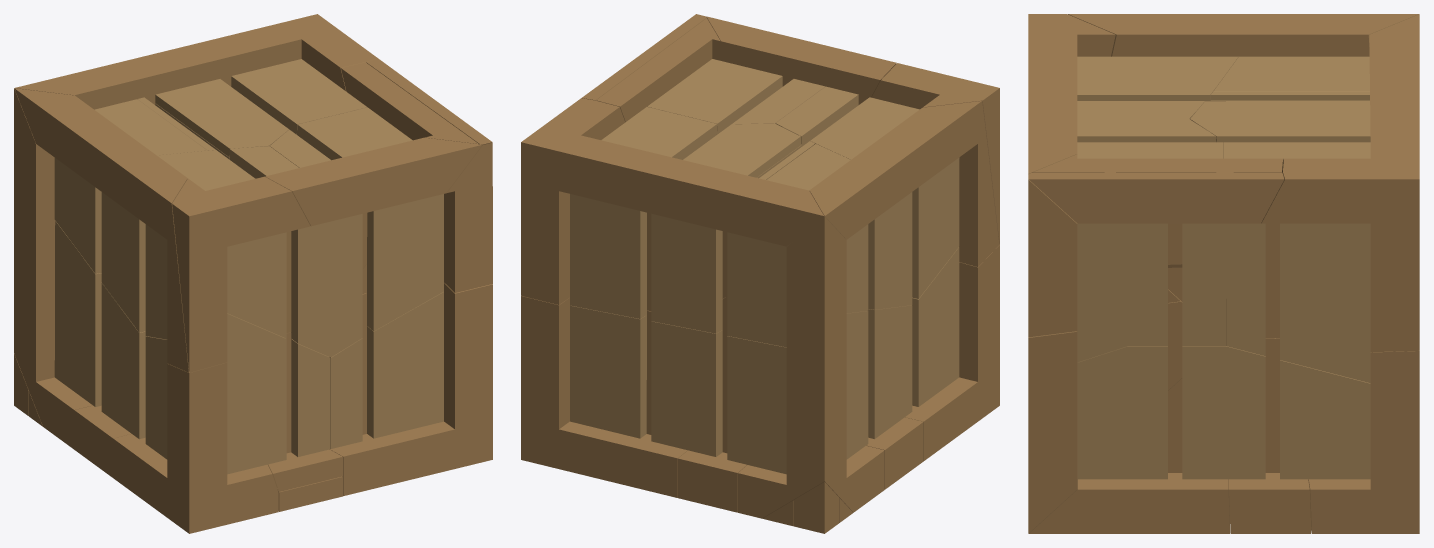
The model's file is BrokenCrate.fbx.
3 views of the same model, side by side, from view 1: azimuth 30°, elevation 25°; view 2: azimuth 150°, elevation 25°; view 3: azimuth 270°, elevation 25° (orthographic). The views are drawn at different scales.
Visible parts, largest first — view 1: Cube.005_cell.005_cell.001, Cube.005_cell.004_cell.001, Cube.005_cell.007_cell, Cube.005_cell.006_cell.002, Cube.005_cell.007_cell.002, Cube.005_cell.001_cell, Cube.005_cell.007_cell.001, Cube.007_cell.010, Cube.007_cell.002, Cube.007_cell.006, Cube.007_cell.004, Cube.006_cell.004 (+22 smaller); view 2: Cube.005_cell.006_cell.002, Cube.005_cell.001_cell, Cube.005_cell.007_cell.002, Cube.005_cell.003_cell.001, Cube.007_cell.008, Cube.005_cell.005_cell.001, Cube.007_cell.009, Cube.007_cell.015, Cube.007_cell.016, Cube.007_cell, Cube.005_cell.007_cell.001, Cube.007_cell.007 (+19 smaller); view 3: Cube.005_cell.006_cell.002, Cube.006_cell.001, Cube.005_cell.003_cell.001, Cube.005_cell.007_cell.002, Cube.006_cell.011, Cube.005_cell.006_cell.001, Cube.006_cell.012, Cube.005_cell_cell.002, Cube.005_cell.004_cell.001, Cube.006_cell.006, Cube.008_cell.002, Cube.005_cell.004_cell (+15 smaller).
Boxes of the visible parts, left/top/right/bottom form: Cube.005_cell.005_cell.001: left=113, top=362, right=278, bottom=533; Cube.005_cell.004_cell.001: left=330, top=283, right=492, bottom=495; Cube.005_cell.007_cell: left=172, top=176, right=310, bottom=372; Cube.005_cell.006_cell.002: left=15, top=14, right=377, bottom=109; Cube.005_cell.007_cell.002: left=14, top=88, right=189, bottom=372; Cube.005_cell.001_cell: left=14, top=88, right=92, bottom=449; Cube.005_cell.007_cell.001: left=265, top=137, right=482, bottom=268; Cube.007_cell.010: left=291, top=214, right=362, bottom=357; Cube.007_cell.002: left=367, top=292, right=443, bottom=438; Cube.007_cell.006: left=227, top=313, right=286, bottom=474; Cube.007_cell.004: left=369, top=194, right=443, bottom=331; Cube.006_cell.004: left=54, top=221, right=101, bottom=406; Cube.005_cell.006_cell.002: left=521, top=98, right=823, bottom=311; Cube.005_cell.001_cell: left=738, top=216, right=884, bottom=518; Cube.005_cell.007_cell.002: left=809, top=101, right=999, bottom=266; Cube.005_cell.003_cell.001: left=521, top=296, right=687, bottom=497; Cube.007_cell.008: left=570, top=305, right=646, bottom=438; Cube.005_cell.005_cell.001: left=905, top=244, right=999, bottom=460; Cube.007_cell.009: left=651, top=321, right=722, bottom=456; Cube.007_cell.015: left=570, top=194, right=646, bottom=318; Cube.007_cell.016: left=651, top=213, right=725, bottom=333; Cube.007_cell: left=727, top=336, right=786, bottom=474; Cube.005_cell.007_cell.001: left=706, top=16, right=896, bottom=104; Cube.007_cell.007: left=727, top=232, right=790, bottom=347; Cube.005_cell.006_cell.002: left=1261, top=14, right=1419, bottom=352; Cube.006_cell.001: left=1280, top=223, right=1370, bottom=383; Cube.005_cell.003_cell.001: left=1308, top=350, right=1419, bottom=533; Cube.005_cell.007_cell.002: left=1068, top=14, right=1418, bottom=56; Cube.006_cell.011: left=1077, top=346, right=1167, bottom=479; Cube.005_cell.006_cell.001: left=1028, top=172, right=1284, bottom=223; Cube.006_cell.012: left=1182, top=346, right=1265, bottom=479; Cube.005_cell_cell.002: left=1028, top=378, right=1229, bottom=533; Cube.005_cell.004_cell.001: left=1028, top=301, right=1182, bottom=533; Cube.006_cell.006: left=1280, top=360, right=1370, bottom=479; Cube.008_cell.002: left=1190, top=101, right=1370, bottom=143; Cube.005_cell.004_cell: left=1028, top=174, right=1180, bottom=337.
Bounding box in the file's own units: 131 × 131 × 131.
